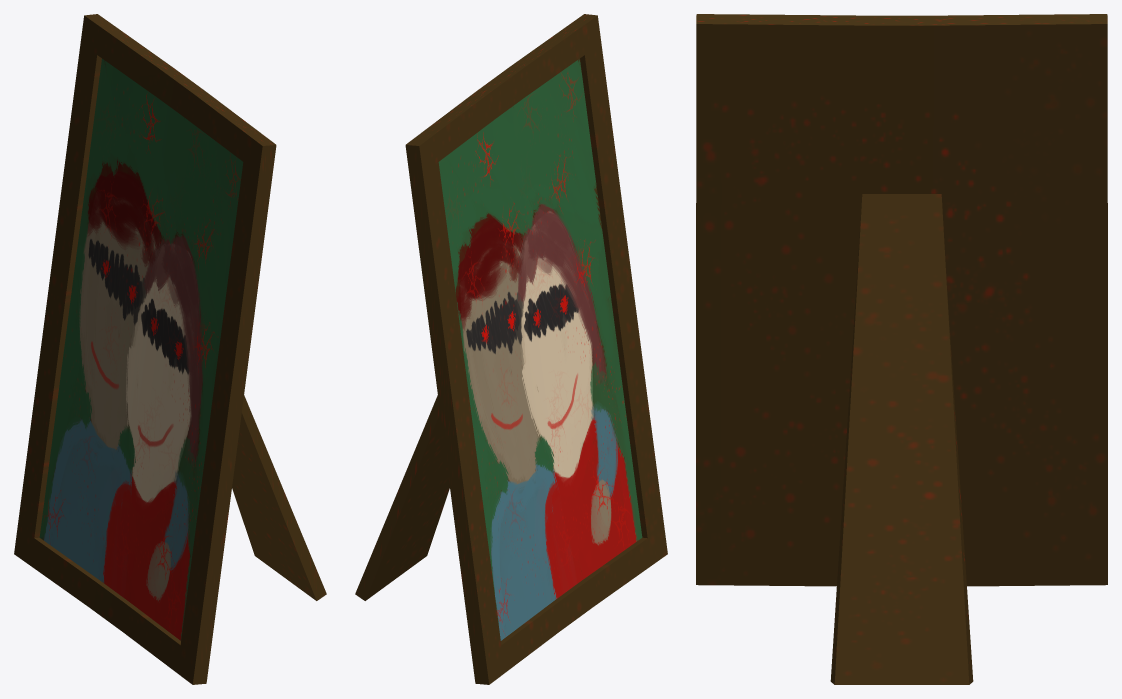
Rendered from Tavla3.fbx.
The picture shows the model from 3 angles, left to right: view 1: azimuth 30°, elevation 25°; view 2: azimuth 150°, elevation 25°; view 3: azimuth 270°, elevation 25°; orthographic projection. The views are drawn at different scales.
Parts seen in each view (by area): view 1: pCube1; view 2: pCube1; view 3: pCube1.
Part boxes in pixels (x1,y1,x2,y2): pCube1: [14, 14, 326, 684]; pCube1: [355, 14, 667, 684]; pCube1: [696, 14, 1107, 684].
Size of the model in its own units: 2.63 by 6.79 by 4.19.
Materials: 1 (1 with a texture image).
